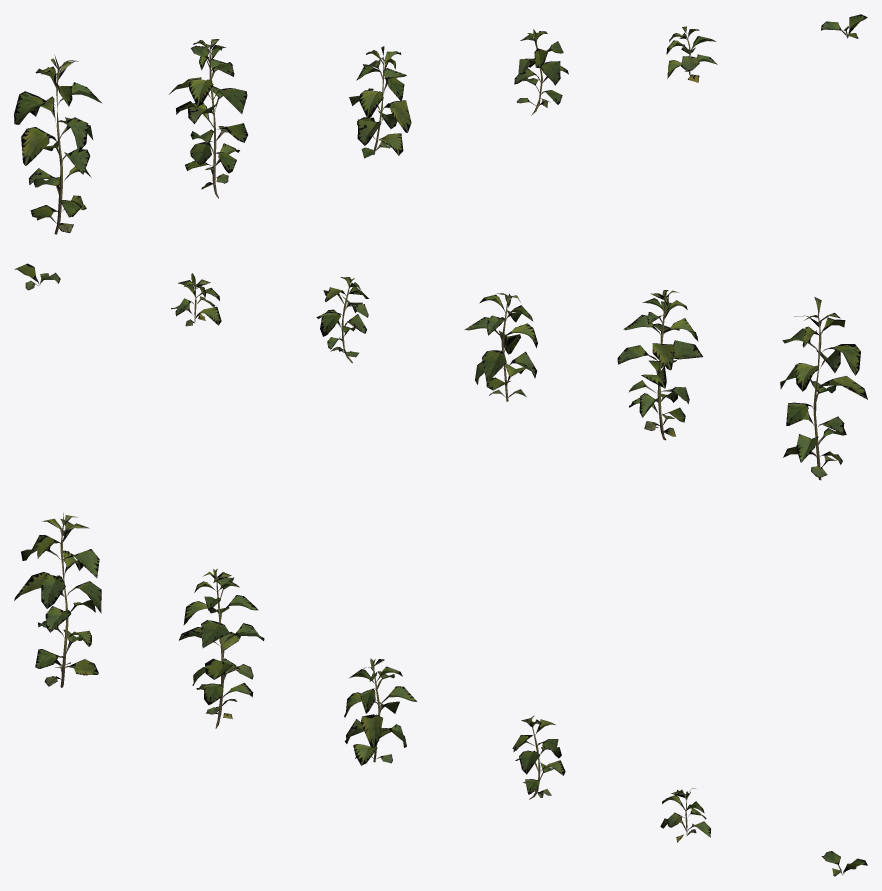
The model's file is nettle_plant.glb.
3 renders of one model, top to bottom at view 1: azimuth 30°, elevation 25°; view 2: azimuth 150°, elevation 25°; view 3: azimuth 330°, elevation 25°, orthographic.
Parts seen in each view (by area): view 1: nettle_plant_medium_a_LOD0; view 2: nettle_plant_medium_a_LOD0; view 3: nettle_plant_medium_a_LOD0.
Part boxes in pixels (<box>): nettle_plant_medium_a_LOD0: <box>14,14,867,234</box>; nettle_plant_medium_a_LOD0: <box>14,263,867,480</box>; nettle_plant_medium_a_LOD0: <box>14,513,867,876</box>.
Bounding box in the file's own units: 1.08 × 0.2181 × 0.0947.
1 material, 1 textured.
